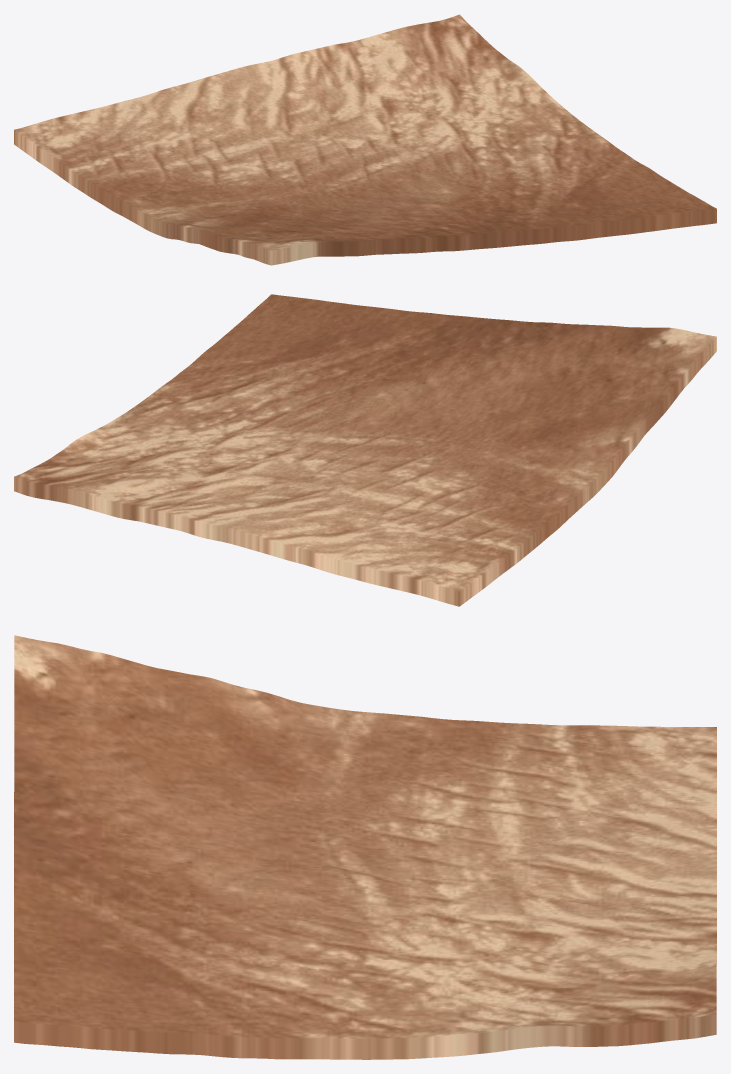
The picture shows the model from 3 angles, top to bottom: view 1: azimuth 30°, elevation 25°; view 2: azimuth 150°, elevation 25°; view 3: azimuth 270°, elevation 25°; orthographic projection. The views are drawn at different scales.
Visible parts, largest first — view 1: L7_41_39; view 2: L7_41_39; view 3: L7_41_39.
Part boxes in pixels (x1=…): L7_41_39: x1=14, y1=14, x2=716, y2=265; L7_41_39: x1=14, y1=294, x2=716, y2=606; L7_41_39: x1=14, y1=635, x2=716, y2=1059.
Bounding box in the file's own units: 113 × 22.57 × 113.
Materials: 1 (1 with a texture image).
